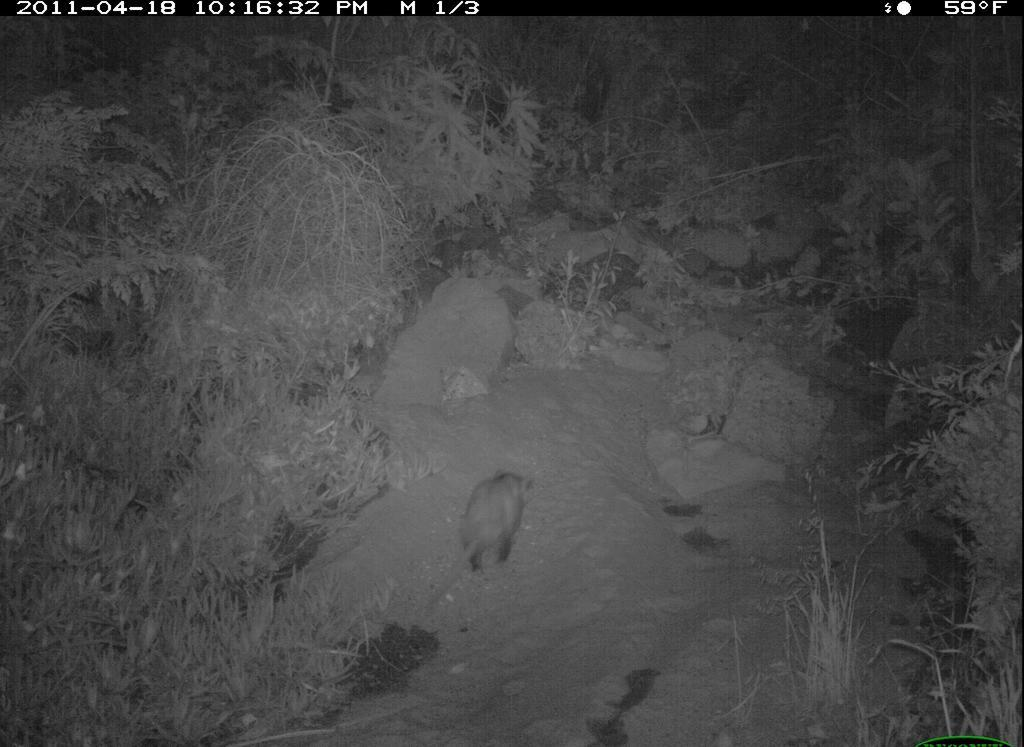opossum: (425, 466, 543, 613)
